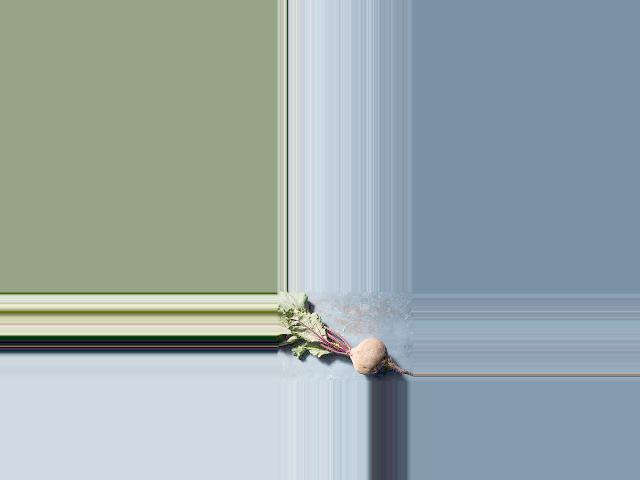beet: (276, 291, 412, 376)
